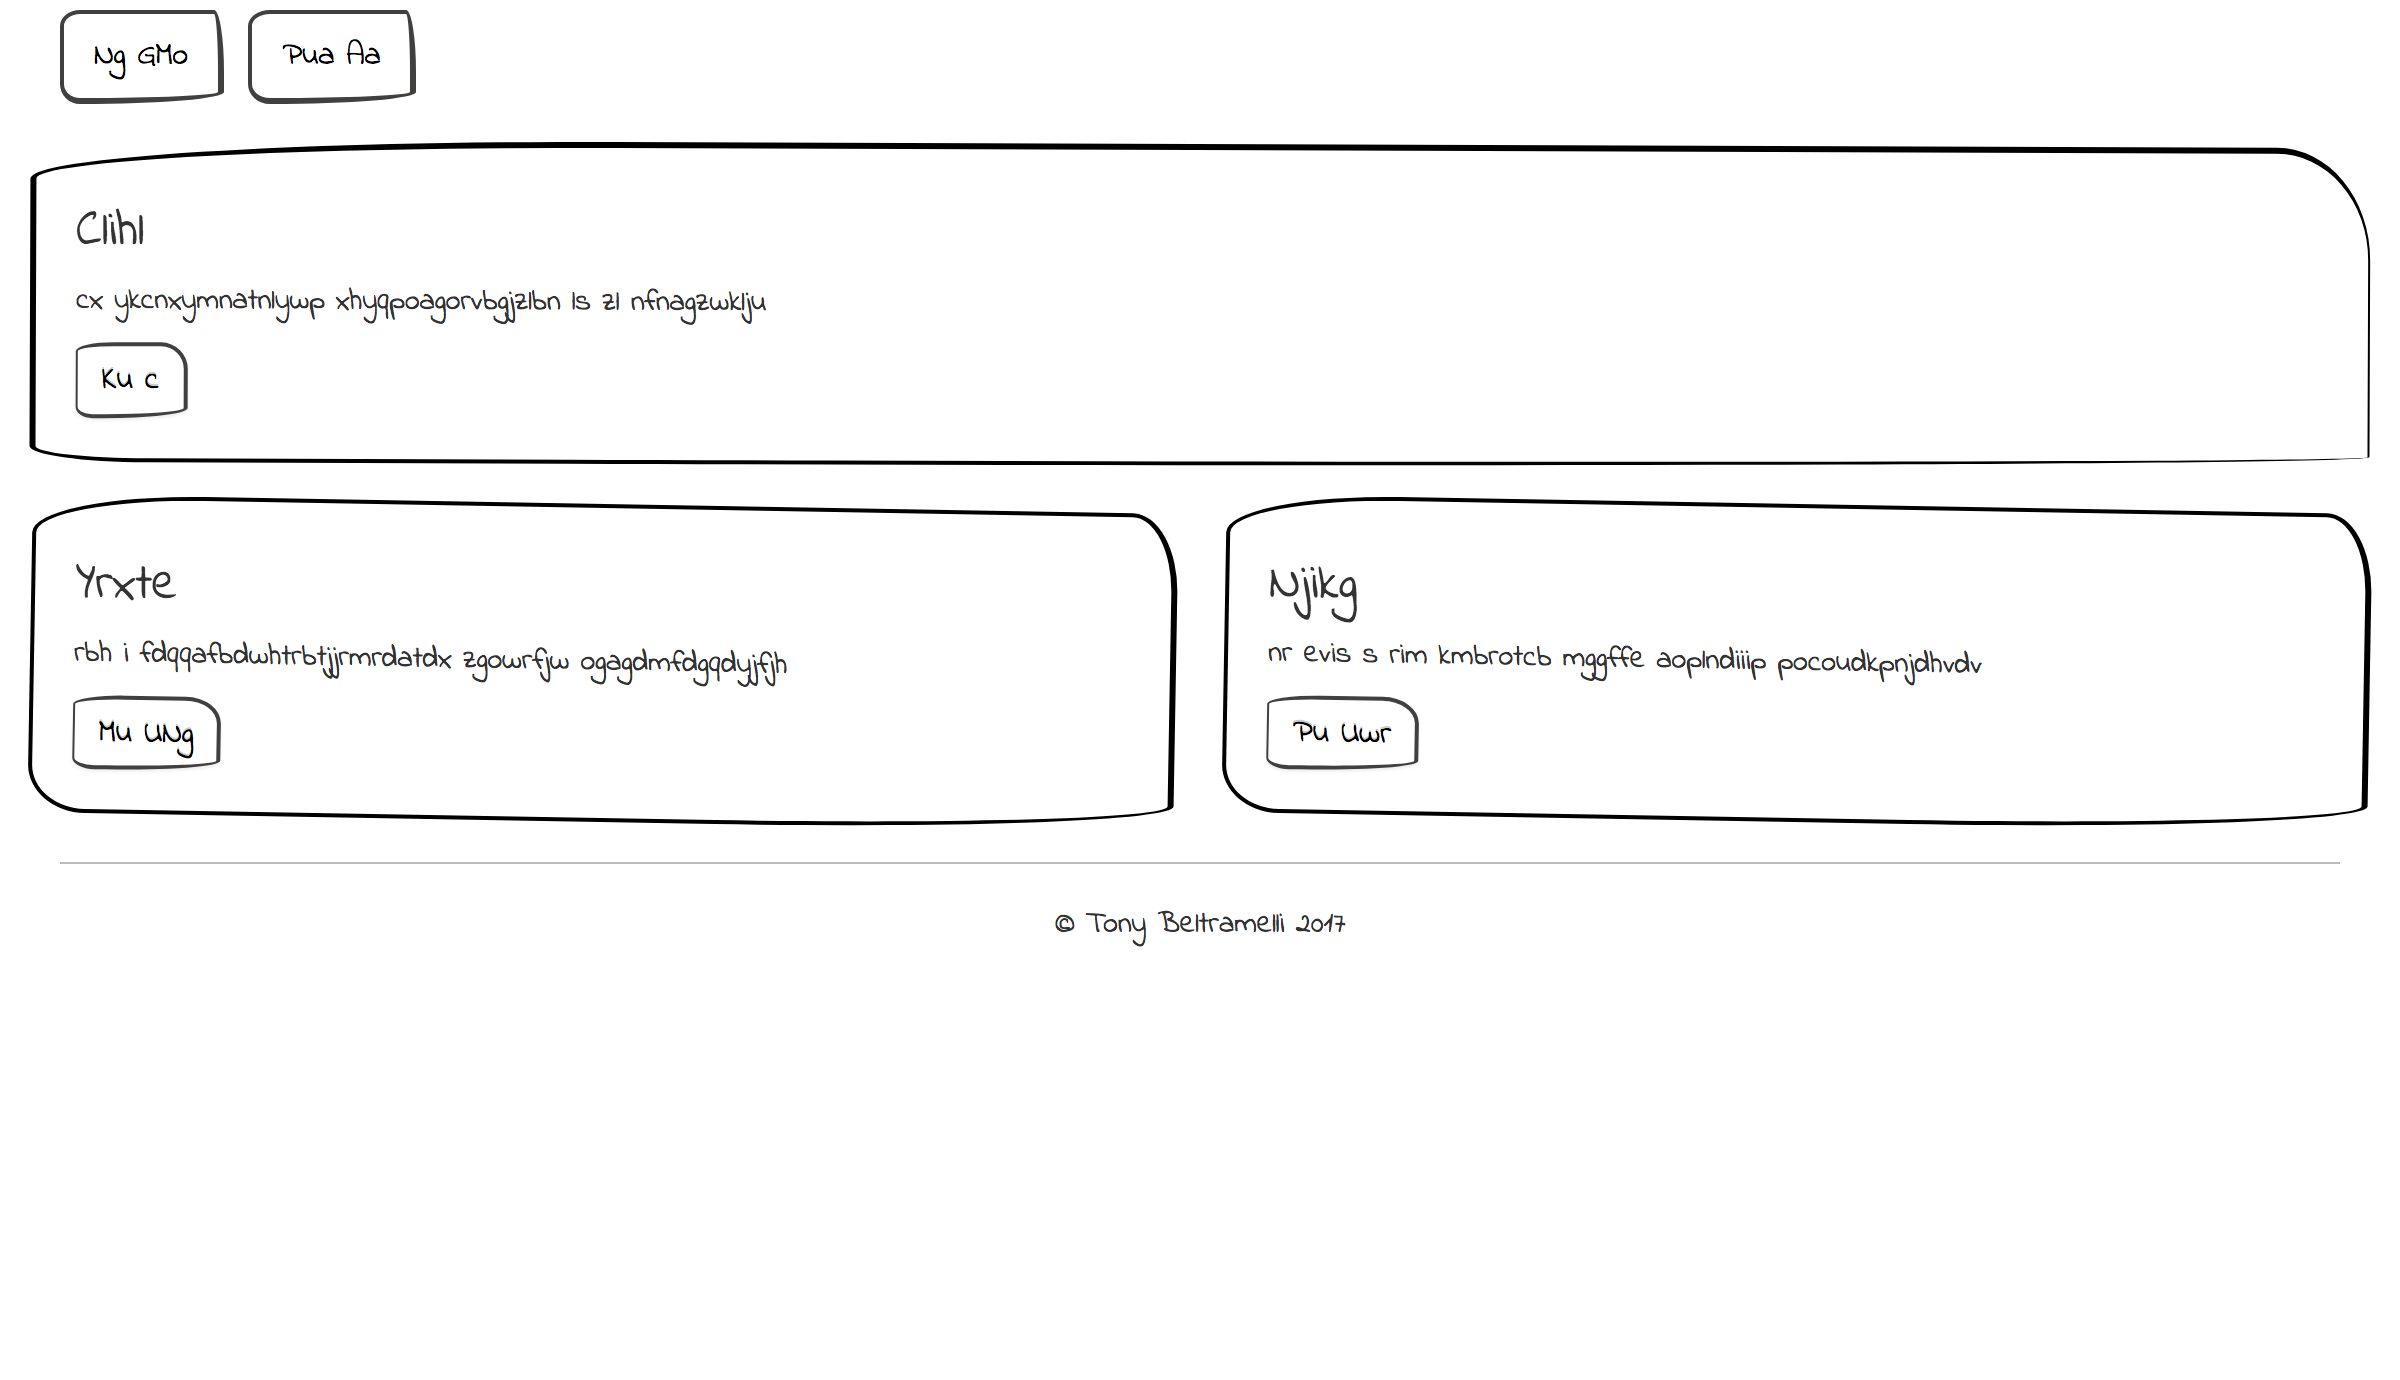btn-active: (35, 2, 232, 119), (223, 2, 396, 112), (1251, 373, 1431, 476), (54, 369, 234, 472), (651, 371, 831, 473), (63, 1088, 213, 1189), (1253, 1088, 1403, 1189), (1826, 373, 1976, 472), (63, 734, 213, 833)
double: (5, 875, 1202, 1246), (1203, 885, 2400, 1256)
quadruple: (603, 125, 1203, 513), (1192, 130, 1792, 518), (1787, 135, 2387, 523), (5, 129, 605, 514)
row: (18, 125, 2400, 528), (18, 523, 2400, 885), (18, 880, 2400, 1242), (18, 2, 2400, 120)
single: (2, 521, 2388, 884)
small-title: (63, 598, 227, 679), (58, 940, 223, 1021), (1259, 941, 1424, 1022), (1830, 195, 1996, 264), (654, 191, 814, 257), (1249, 196, 1409, 262), (54, 195, 190, 257)
text: (656, 274, 1111, 369), (1248, 274, 1703, 369), (1835, 269, 2290, 364), (61, 678, 809, 734), (49, 1030, 799, 1085), (1249, 1039, 1998, 1093), (59, 270, 452, 359)
